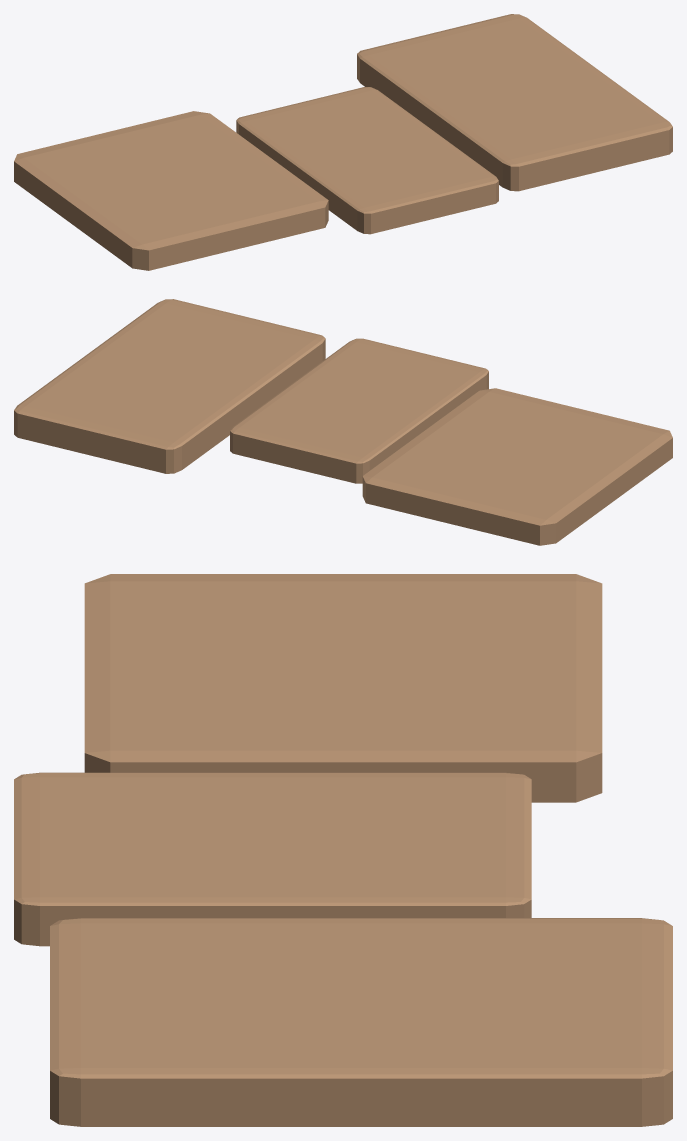
Rendered from threshold.fbx.
3 views of the same model, one above another, from view 1: azimuth 30°, elevation 25°; view 2: azimuth 150°, elevation 25°; view 3: azimuth 270°, elevation 25° (orthographic). The views are drawn at different scales.
Parts seen in each view (by area): view 1: Threshold_Rock_3, Threshold_Rock, Threshold_Rock_2; view 2: Threshold_Rock_3, Threshold_Rock, Threshold_Rock_2; view 3: Threshold_Rock_3, Threshold_Rock, Threshold_Rock_2.
Part boxes in pixels (x1,y1,x2,y2): Threshold_Rock_3: (357,14,672,191); Threshold_Rock: (14,111,328,270); Threshold_Rock_2: (236,87,498,234); Threshold_Rock_3: (14,299,325,473); Threshold_Rock: (362,388,672,545); Threshold_Rock_2: (230,338,488,483); Threshold_Rock_3: (50,918,672,1126); Threshold_Rock: (84,574,602,802); Threshold_Rock_2: (14,772,531,946).
Bounding box in the file's own units: 277 × 13.65 × 152.
